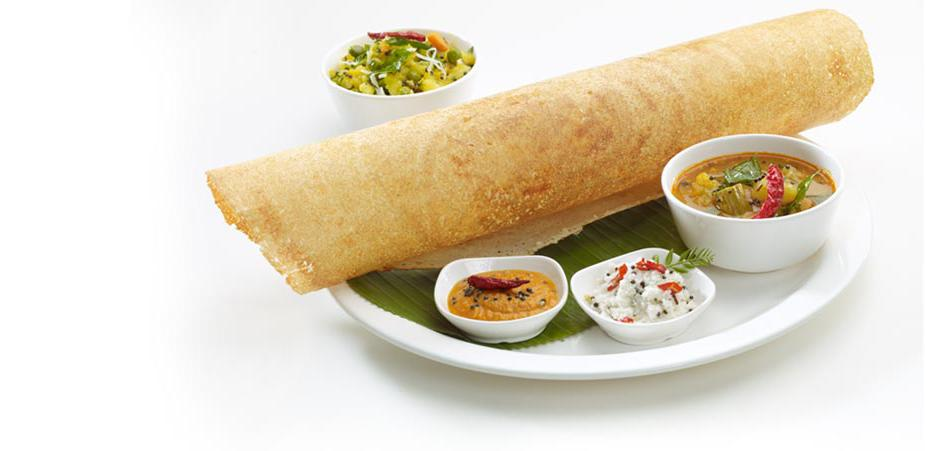dosa: (203, 8, 877, 293)
